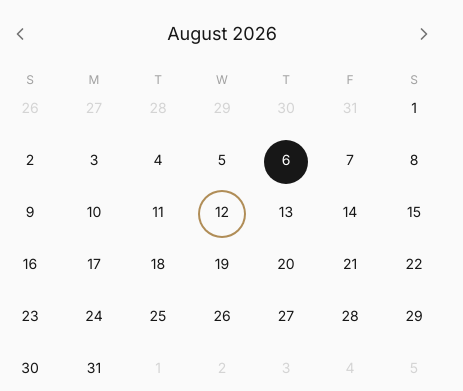
MonthGrid › navigates to the next month on next-month click
Click the button named "Next month" at (424, 34), box [402,12,446,56]
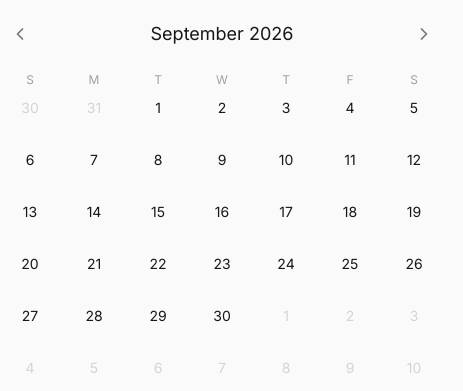
Now the text "September 2026" is shown, box [151,20,294,48]
